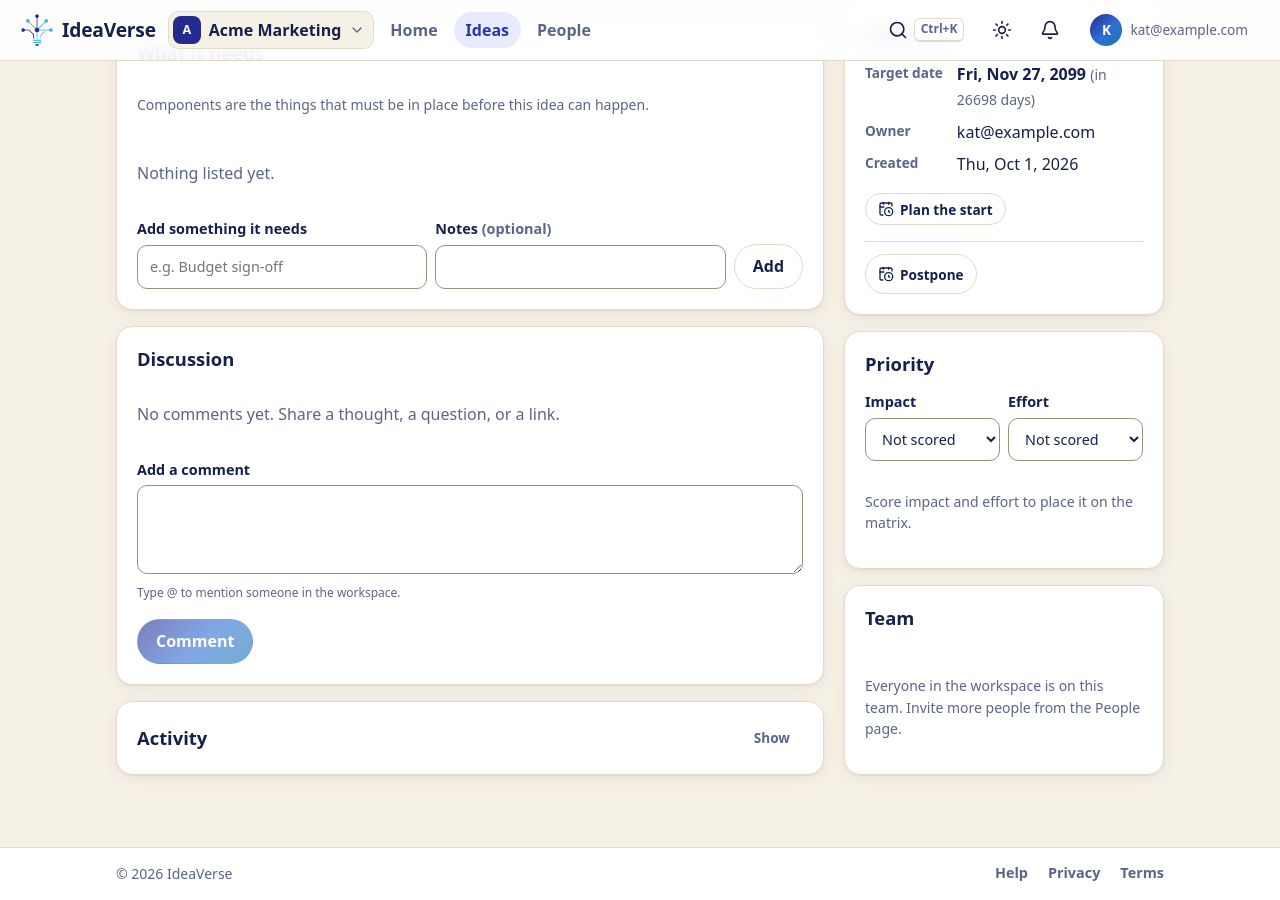
Test: Activity › loads the history when opened
(page scrolled)
What coordinates should you click on to do the following:
click the button "Show"
I would click on:
 (772, 738)
Its box is [741,722,803,754].
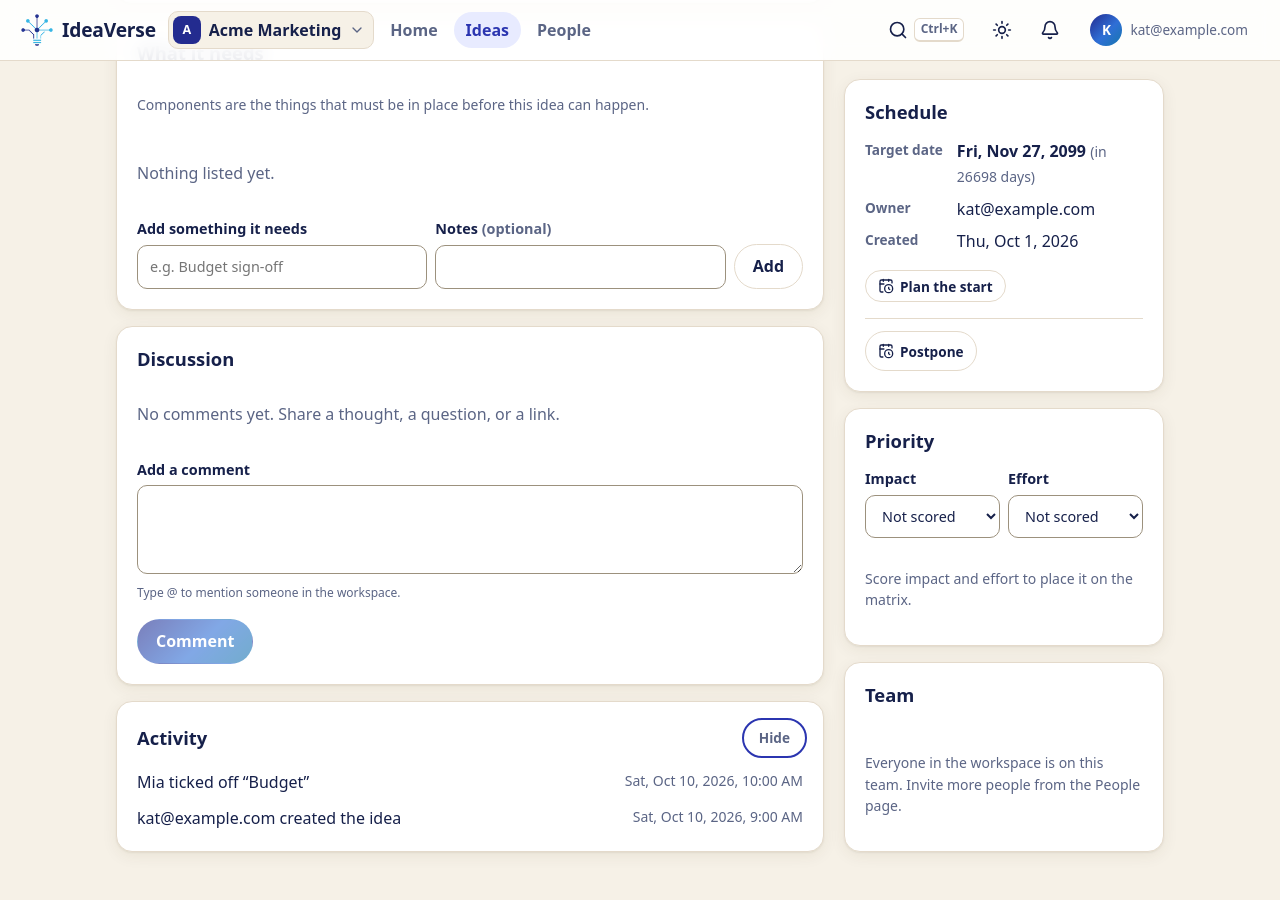
Now the text "Mia ticked off “Budget”" is shown, box [137,770,309,794]
Now the text "kat@example.com created the idea" is shown, box [137,806,401,831]
